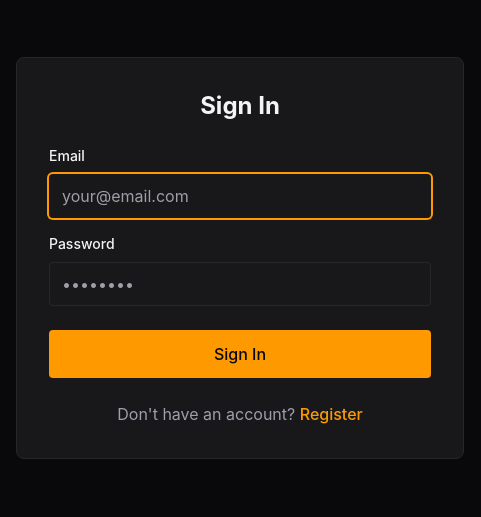
Phase 1+2: Foundation, Auth Store & Auth UI › LoginPage (AUTH-02) › shows network error message on connection failure (AUTH-02)
Type "test@test.com" into the field labelled "Email".
click(240, 196); type("test@test.com")  # box [49,174,431,218]
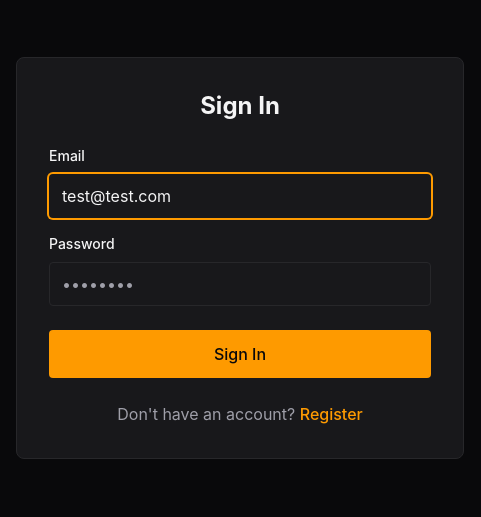
Type "password123" into the password field labelled "Password".
click(240, 284); type("password123")  # box [49,262,431,306]
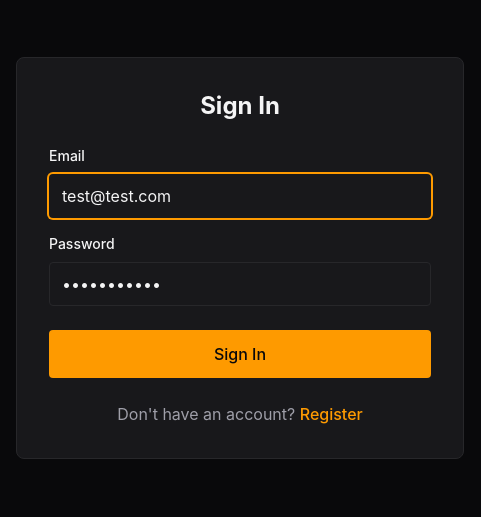
Click the button "Sign In".
click(240, 354)  # box [49,330,431,378]
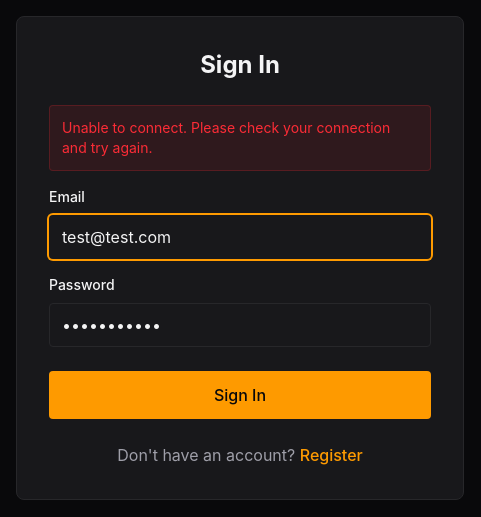
Expected: the text "Unable to connect" is shown, [62,119,390,156]
